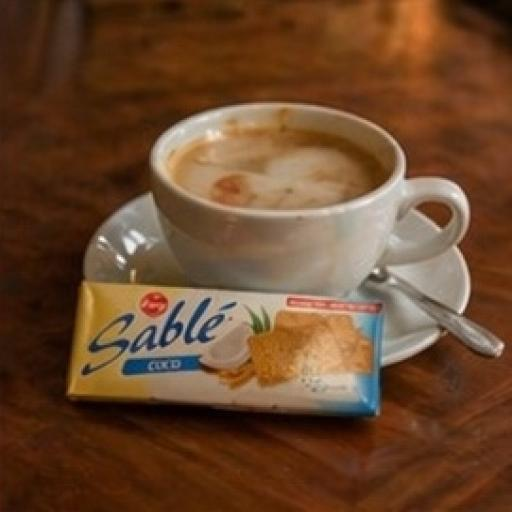sabl: (34, 227, 424, 472)
